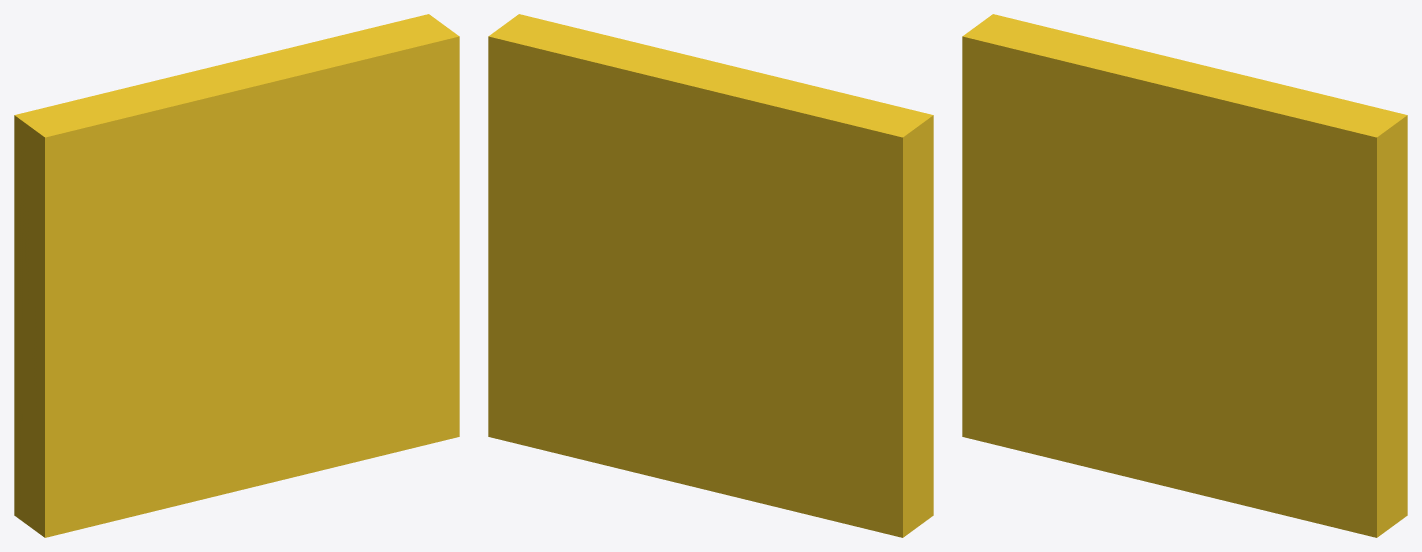
3 views of the same model, side by side, from view 1: azimuth 30°, elevation 25°; view 2: azimuth 150°, elevation 25°; view 3: azimuth 330°, elevation 25° (orthographic).
Visible parts, largest first — view 1: yellow; view 2: yellow; view 3: yellow.
Part boxes in pixels (box(x1,y1,x2,y2)): yellow: box(14, 14, 459, 537); yellow: box(488, 14, 933, 537); yellow: box(962, 14, 1407, 537).
Size of the model in its own units: 0.78 by 0.72 by 0.1.
Materials: 1 (1 with a texture image).
